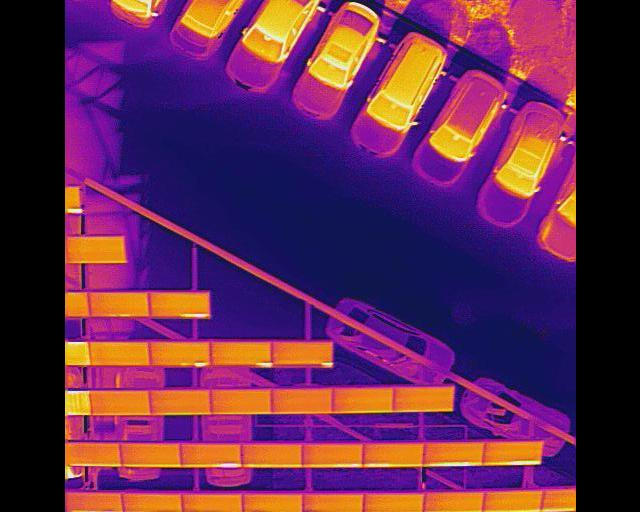No-Anomaly: (64, 236, 123, 265), (332, 386, 393, 414), (391, 386, 452, 413), (270, 388, 331, 415), (361, 442, 424, 468), (88, 291, 148, 318), (301, 443, 361, 469), (209, 390, 272, 414), (149, 391, 210, 415), (241, 444, 301, 468), (89, 343, 149, 366), (91, 391, 148, 415), (120, 443, 179, 465), (64, 443, 120, 466), (481, 492, 541, 512), (422, 493, 485, 512), (361, 494, 424, 512)
Unclassified: (270, 340, 331, 368), (149, 291, 209, 318), (149, 341, 209, 368), (209, 341, 270, 367), (421, 441, 482, 467), (480, 441, 541, 466), (181, 444, 241, 467), (181, 493, 241, 512), (301, 494, 363, 512), (65, 493, 122, 512), (241, 494, 301, 512), (122, 494, 182, 512)
